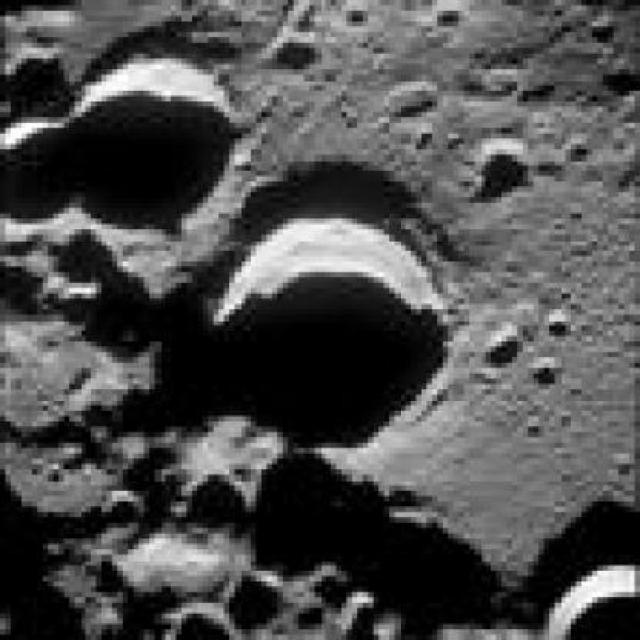crater: (185, 213, 463, 452), (0, 49, 243, 234)
